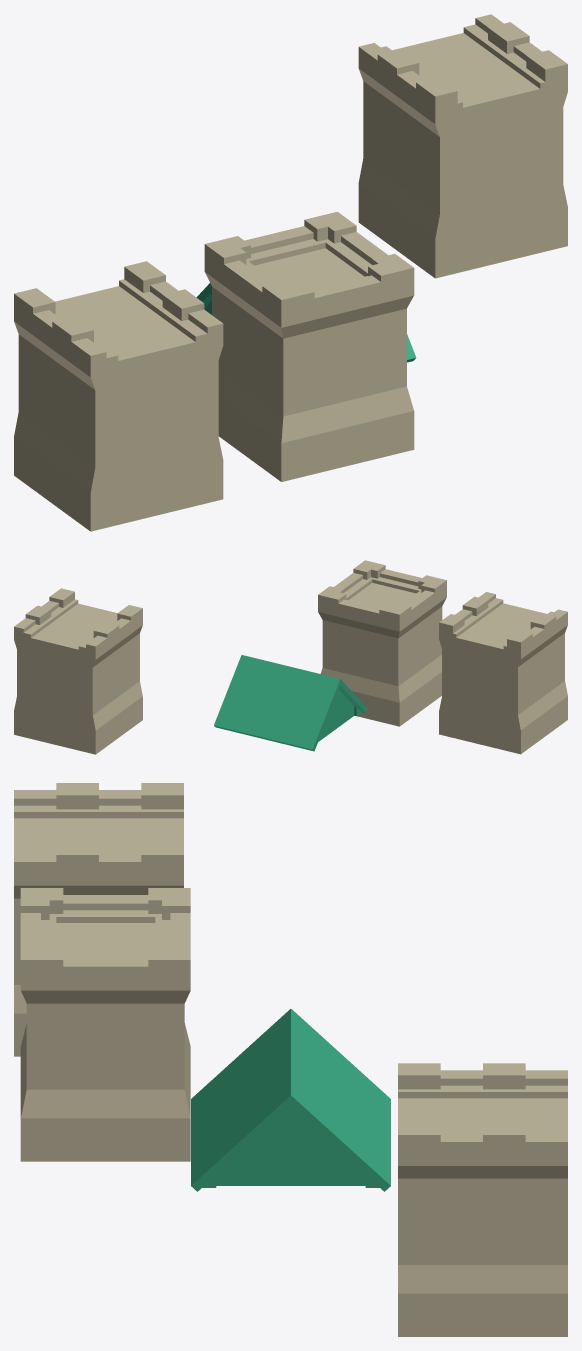
File: yard.glb
The picture shows the model from 3 angles, top to bottom: view 1: azimuth 30°, elevation 25°; view 2: azimuth 150°, elevation 25°; view 3: azimuth 270°, elevation 25°; orthographic projection. The views are drawn at different scales.
Bounding box in the file's own units: 49 × 13.1 × 32.6.
